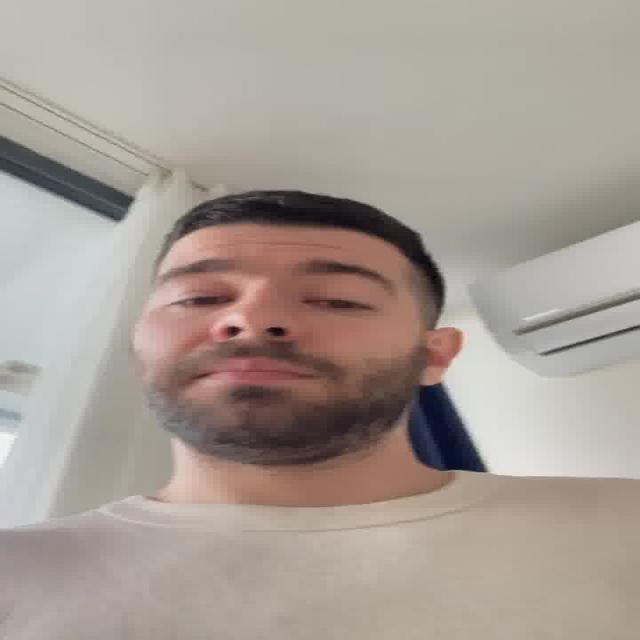earlobe: (415, 366, 448, 387)
eye: (301, 295, 374, 311), (167, 291, 230, 308)
nose: (214, 332, 298, 358)
wholeear: (414, 328, 464, 388)
